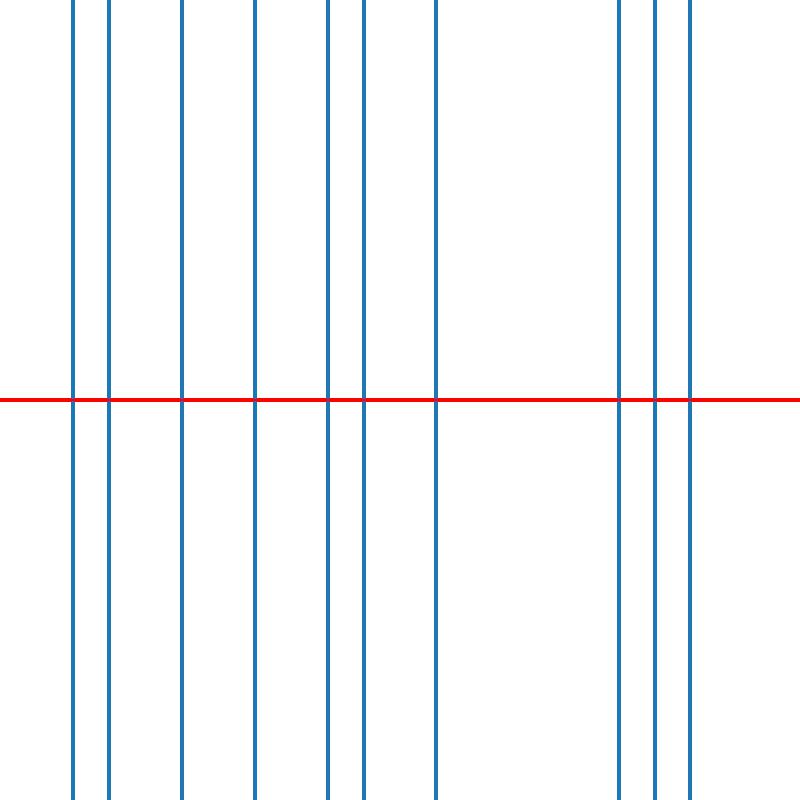root: (432, 396, 440, 404), (250, 396, 258, 404), (650, 396, 658, 404), (323, 396, 330, 404), (105, 396, 112, 404), (687, 396, 694, 404), (69, 396, 76, 404), (360, 396, 367, 404), (614, 396, 621, 404), (178, 396, 185, 404)
